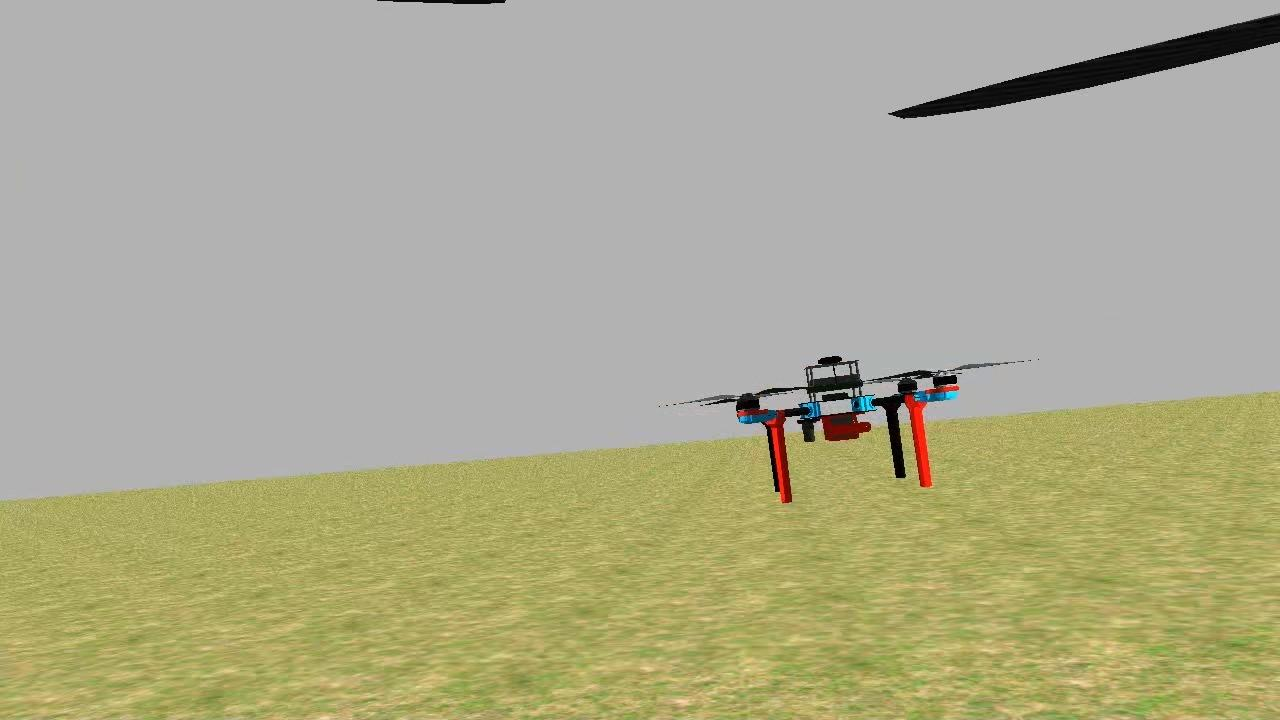UAV: (712, 334, 967, 508)
